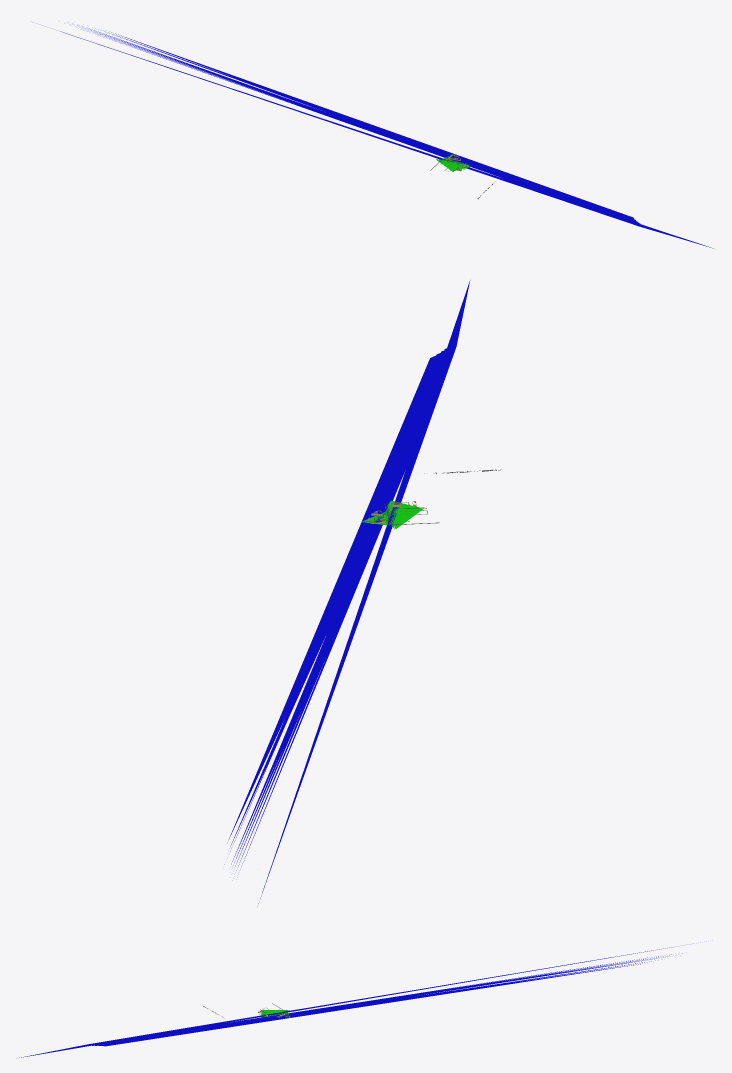
The picture shows the model from 3 angles, top to bottom: view 1: azimuth 30°, elevation 25°; view 2: azimuth 150°, elevation 25°; view 3: azimuth 270°, elevation 25°; orthographic projection. The views are drawn at different scales.
Bounding box in the file's own units: 1776 × 10.5 × 4450.
